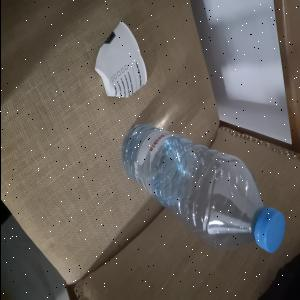Cup: (94, 20, 148, 100)
Plastic-bottle: (117, 121, 288, 263)
